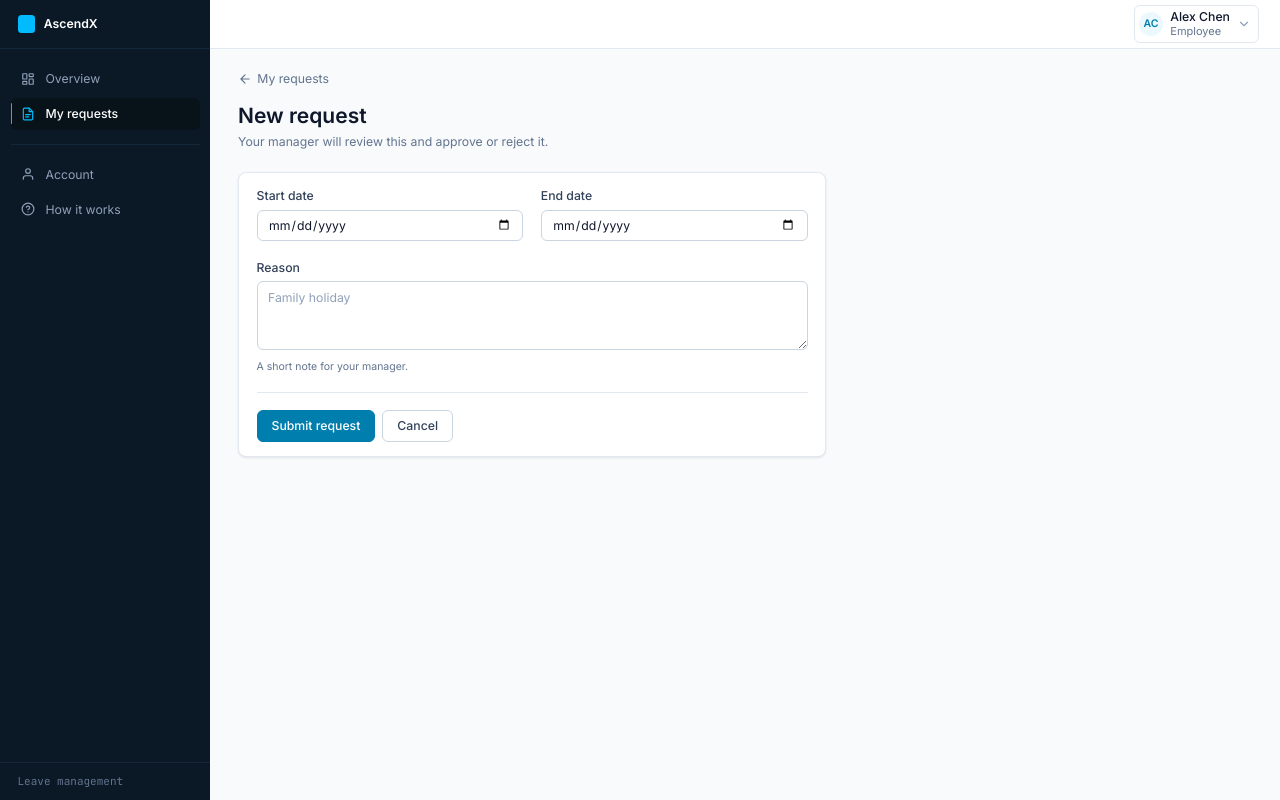
Test: switching employee while viewing one record › does not treat the new-request form as a record
expect the date field labelled "Start date" is shown: met, box top-left (256, 210), bottom-right (523, 241)
Click the button "AC Alex Chen Employee".
click(1197, 24)  # box top-left (1134, 5), bottom-right (1259, 43)
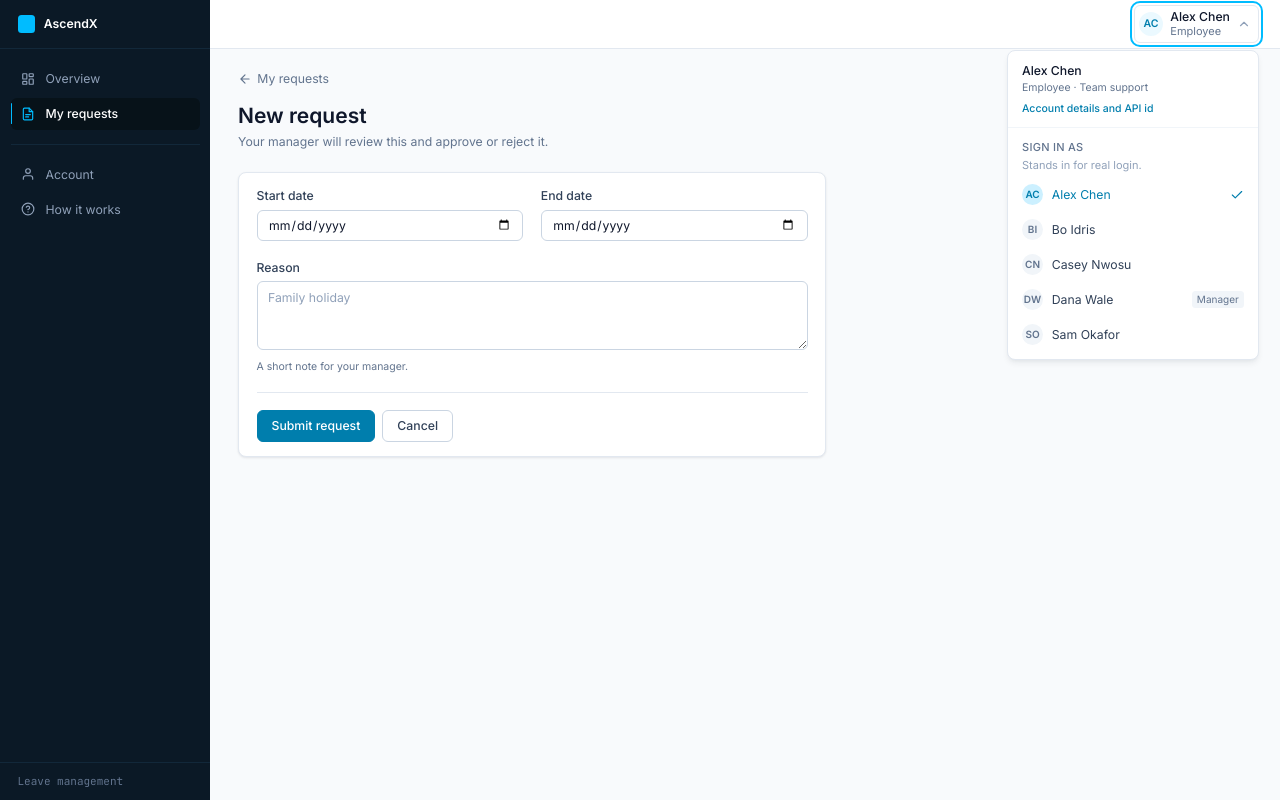
Click the menu item "BI Bo Idris".
click(1133, 230)  # box top-left (1008, 212), bottom-right (1258, 247)
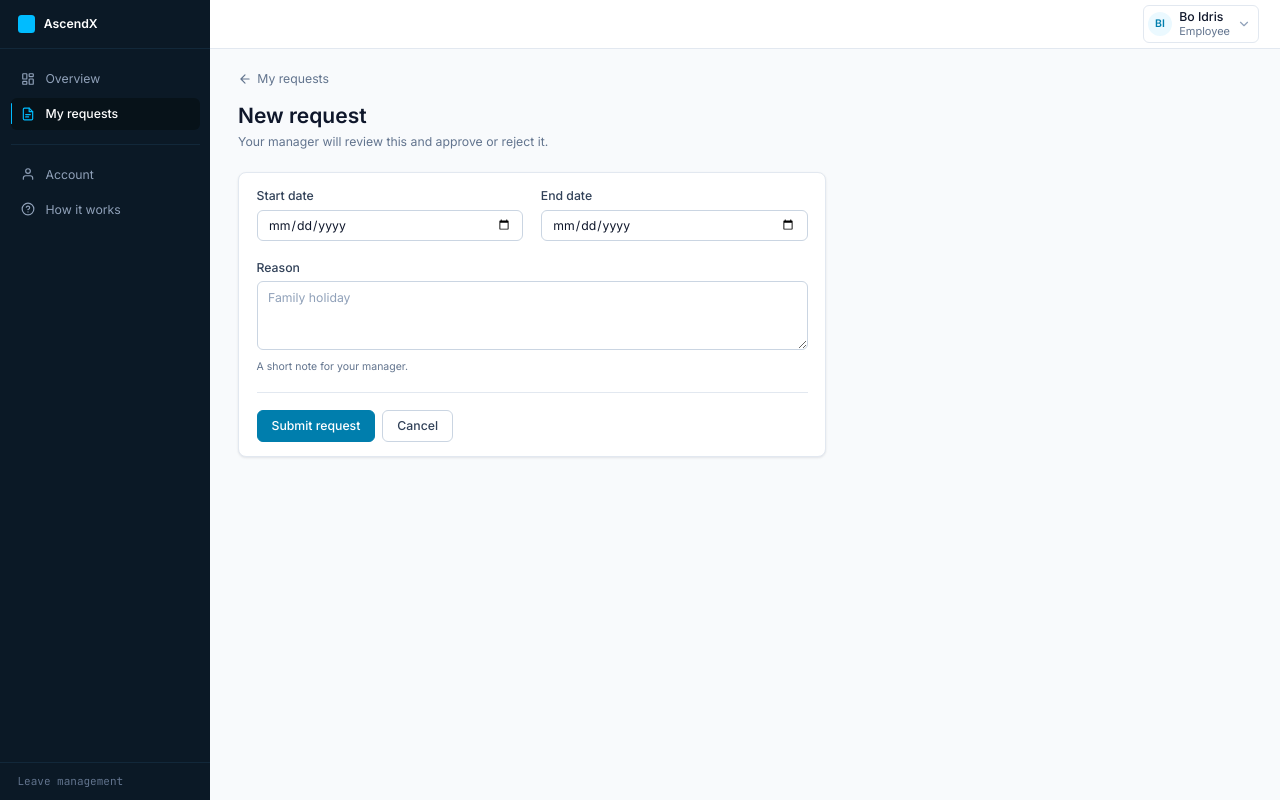
expect the button "BI Bo Idris Employee" is shown: met, box top-left (1143, 5), bottom-right (1259, 43)
